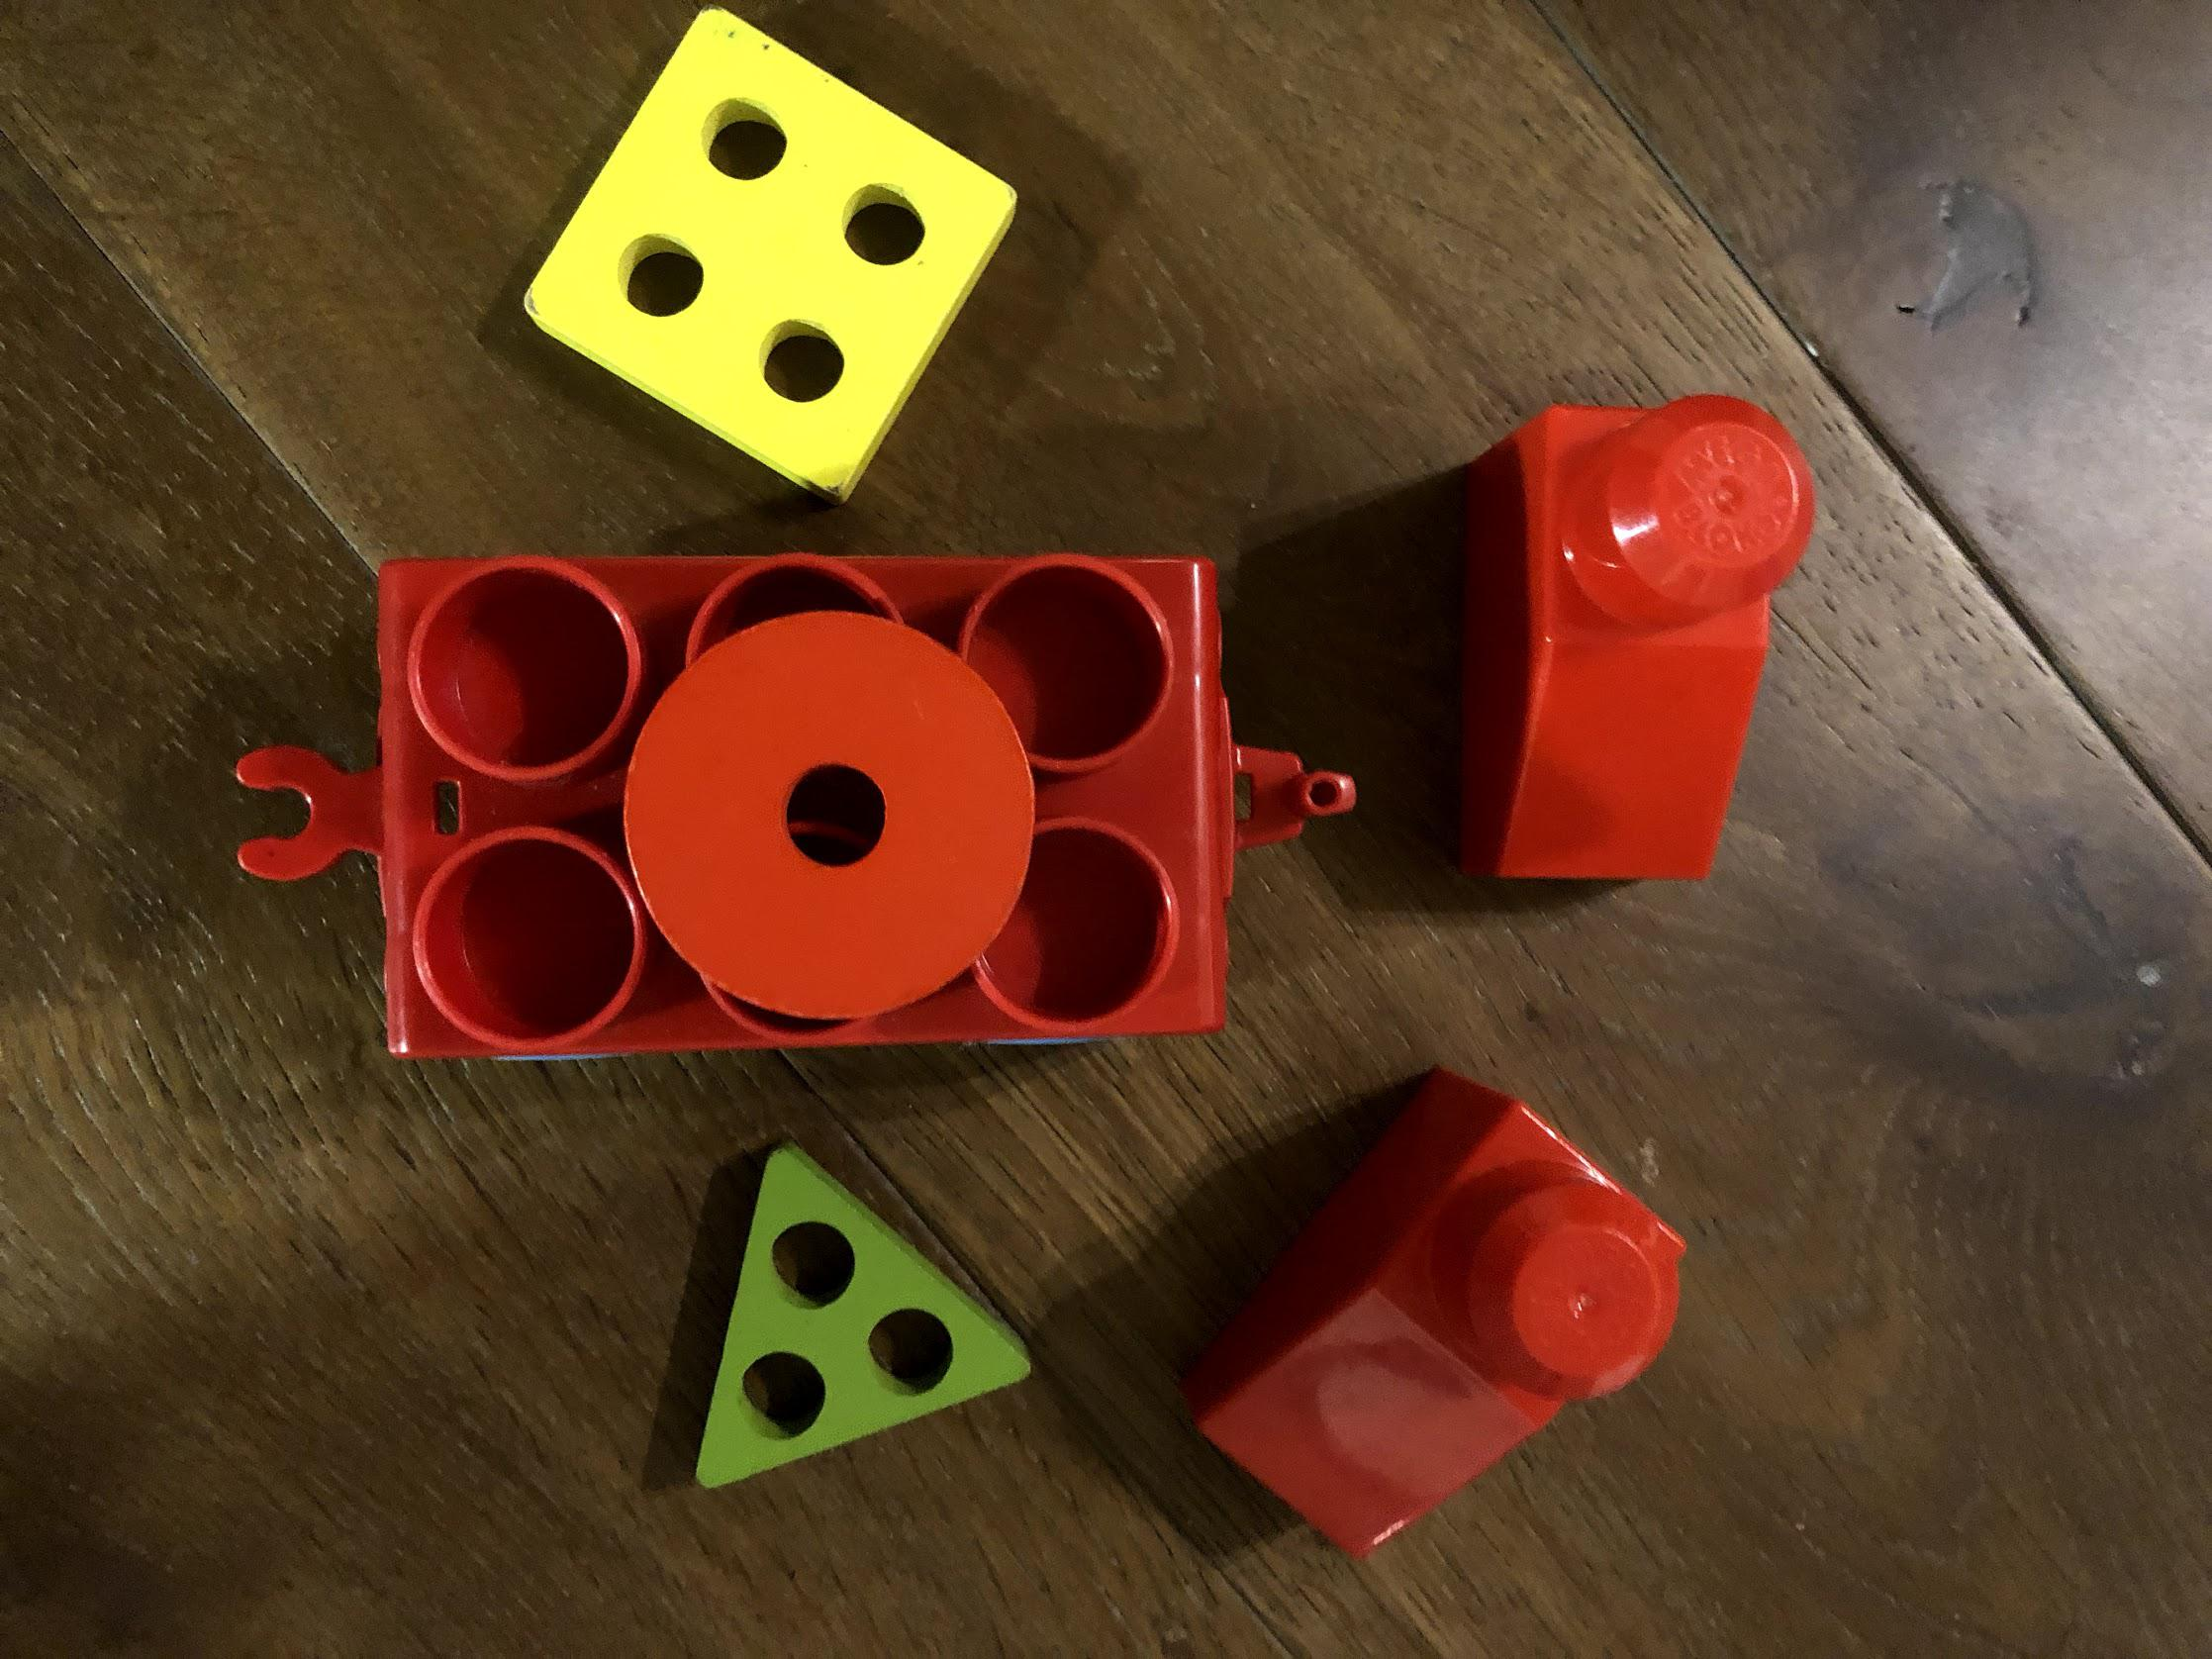Circle: (617, 603, 1040, 1021)
Square: (523, 2, 1019, 505)
Triangle: (686, 1145, 1047, 1499)
